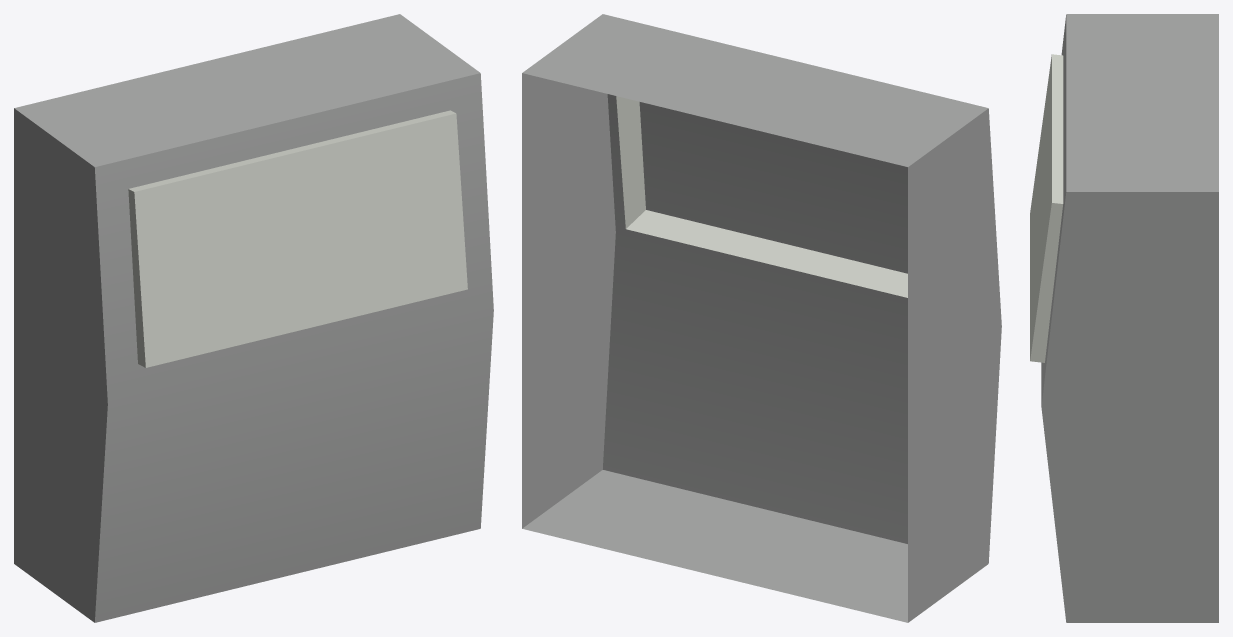
The model's file is soft_aircon_control.fbx.
3 views of the same model, side by side, from view 1: azimuth 30°, elevation 25°; view 2: azimuth 150°, elevation 25°; view 3: azimuth 270°, elevation 25° (orthographic). The views are drawn at different scales.
Visible parts, largest first — view 1: soft_aircon_control; view 2: soft_aircon_control; view 3: soft_aircon_control.
Part boxes in pixels (x1,y1,x2,y2): soft_aircon_control: (14,14,493,622); soft_aircon_control: (522,14,1001,622); soft_aircon_control: (1030,14,1218,622).
Size of the model in its own units: 0.636 by 0.7175 by 0.2848.
